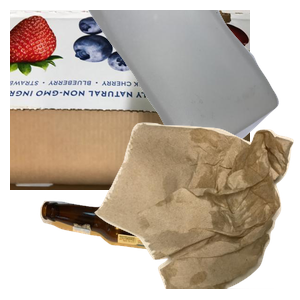cardboard: (10, 10, 250, 190)
glass: (37, 198, 236, 300)
plastic: (84, 10, 300, 157)
trash: (92, 120, 300, 300)
